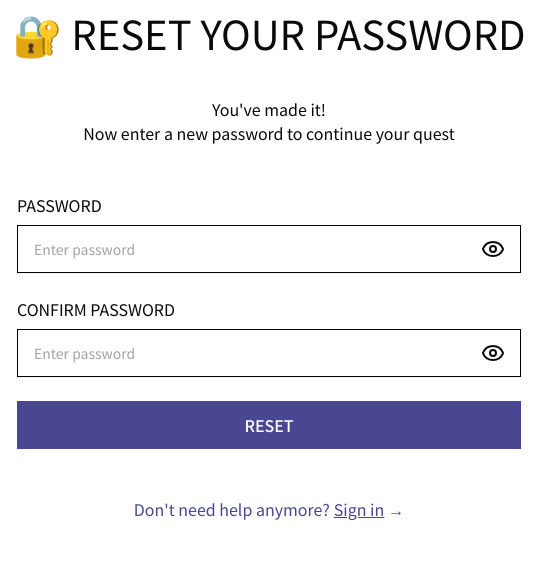
Test: ResetPassword Page › Form Validation › shows validation error when passwords do not match
Type "password123" into the password field labelled "Password" at (269, 249), box [17,225,521,273]
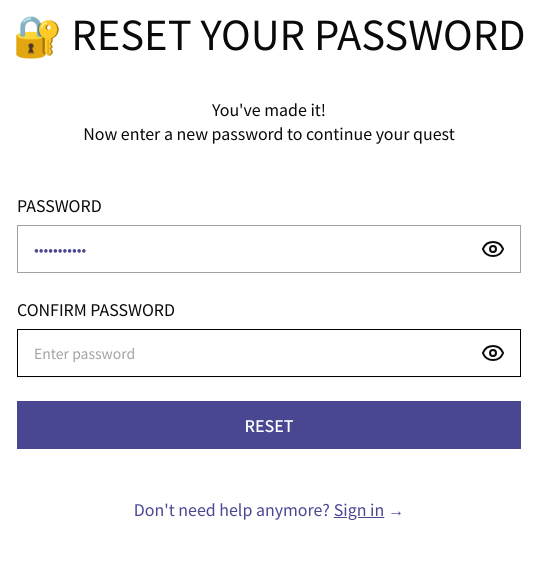
Type "password456" into the password field labelled "Confirm Password" at (269, 353), box [17,329,521,377]
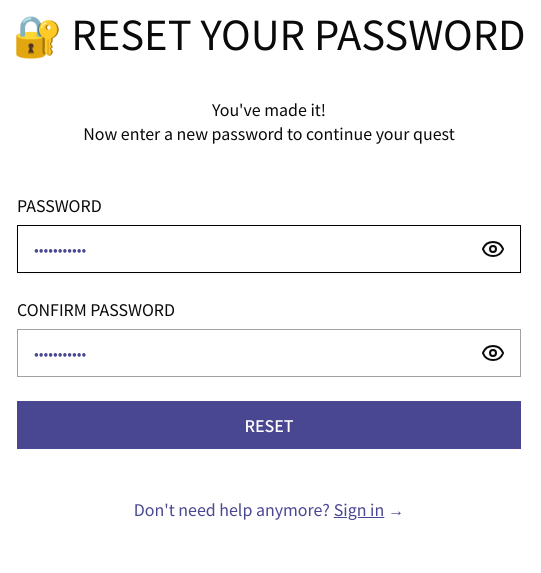
Click the button "RESET" at (269, 425), box [17,401,521,449]
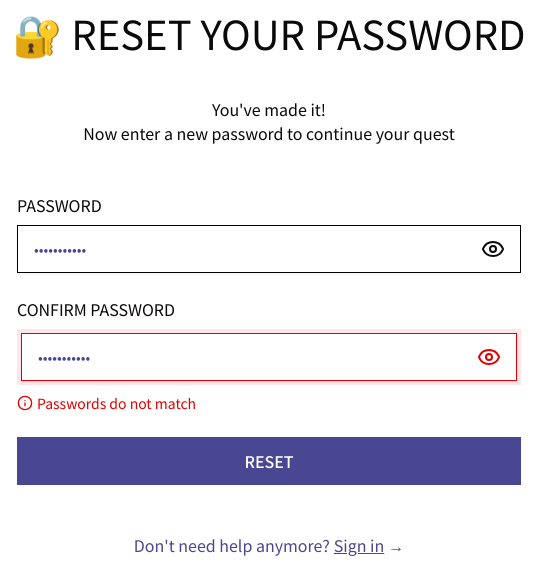
Check: the text "Passwords do not match" is shown, box [37,393,196,413]
